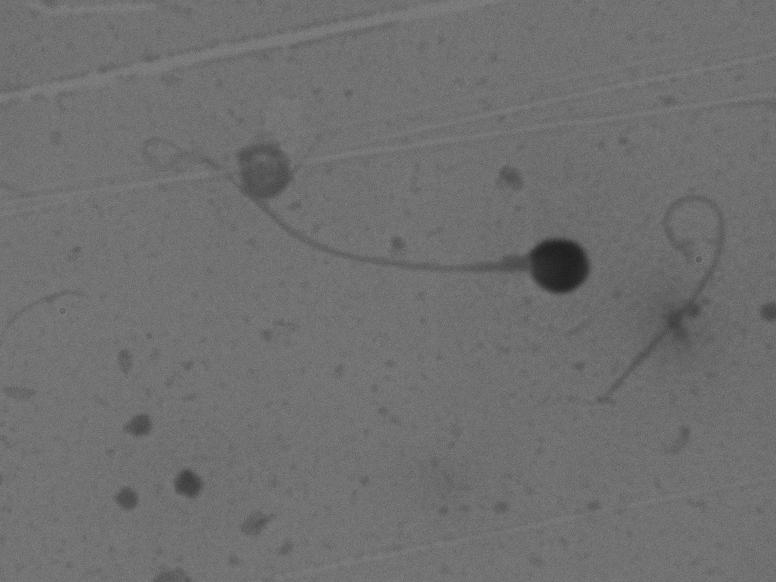Abnormal: (148, 87, 613, 366)
